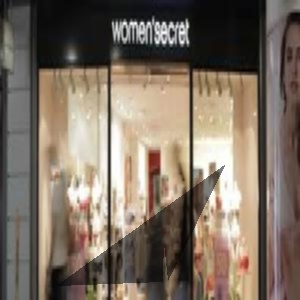women_secret: (137, 3, 247, 9)
